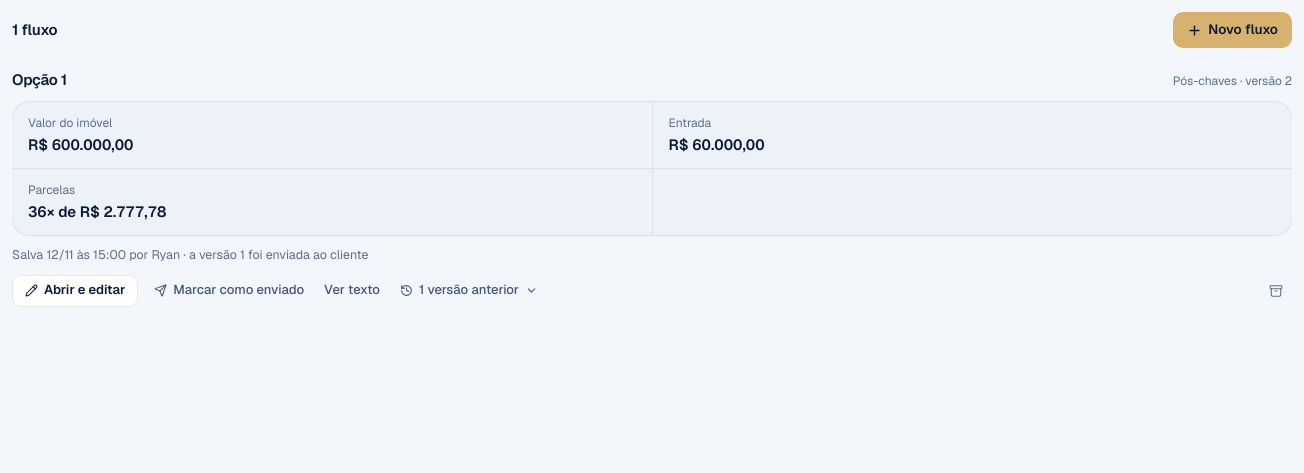
Test: aba Fluxos da ficha › mostra a última versão e guarda as anteriores sob demanda
The image size is (1304, 473).
Check: the heading "Opção 1" is shown, box [12,68,67,92]
Check: the text "Pós-chaves · versão 2" is shown, box [1173,72,1292,91]
Click the button "1 versão anterior" at coordinates (469, 291), box [392,275,546,307]
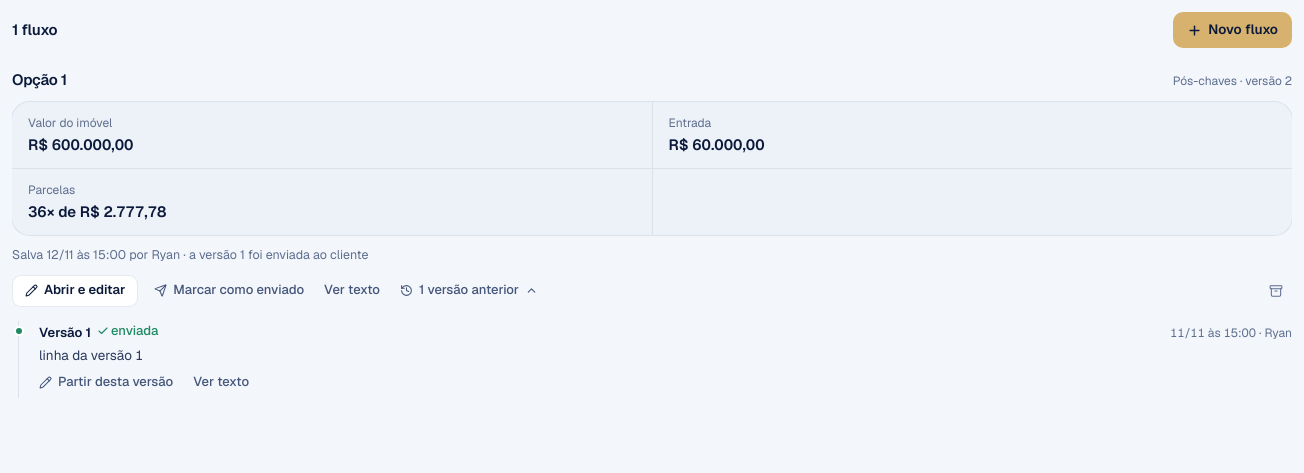
Check: the text "linha da versão 1" is shown, box [39,346,143,364]
// o texto congelado da versão aparece como foi gerado
Click the 1st button "Ver texto" at coordinates (352, 291), box [316,275,388,307]
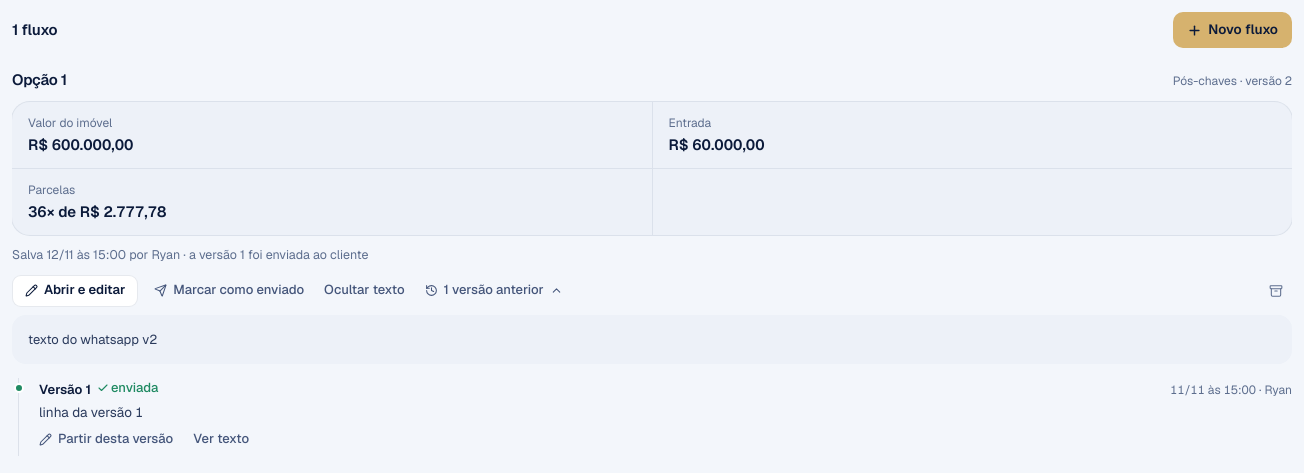
Check: the text "texto do whatsapp v2" is shown, box [12,315,1292,364]
